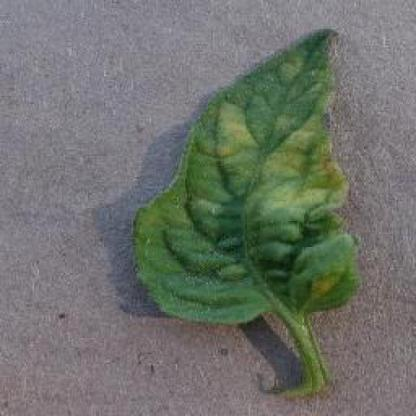Tomato_Leaf_Mold: (136, 28, 359, 324)
